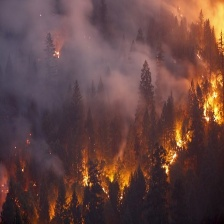fire: (77, 163, 131, 195), (162, 122, 191, 171), (199, 75, 224, 126), (52, 49, 63, 60)
smoke: (1, 2, 207, 152)
